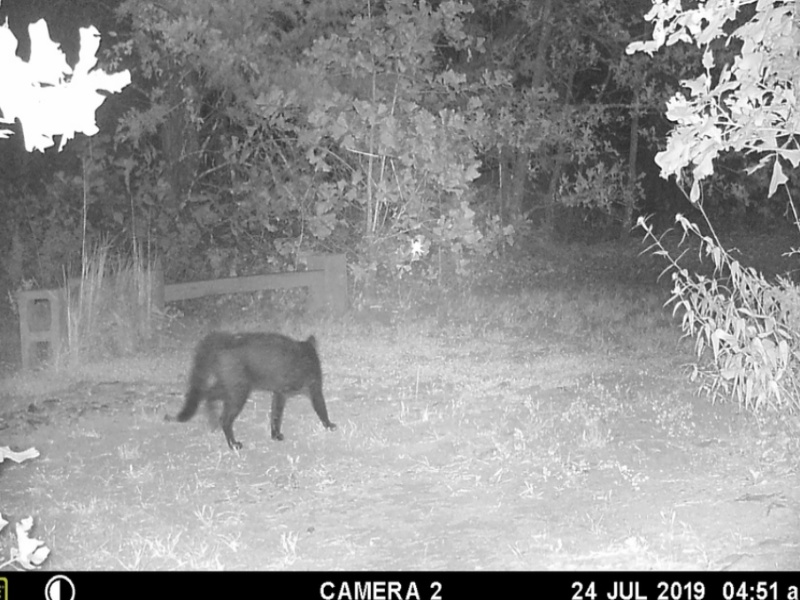cat: (175, 323, 336, 458)
